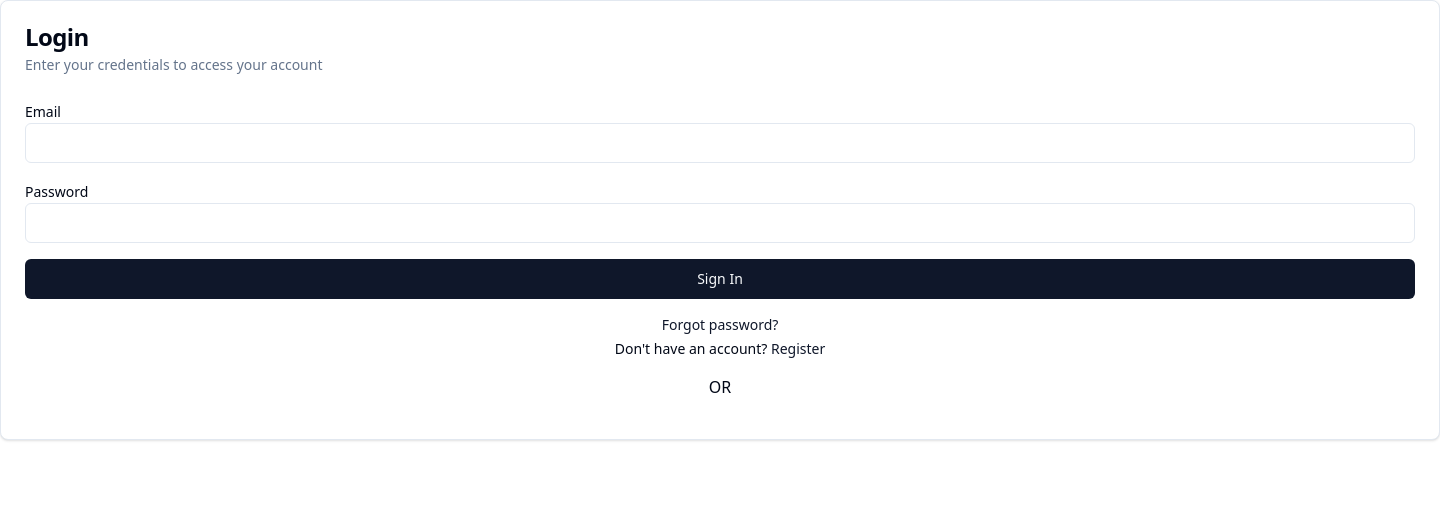
Test: Login Page › should show validation errors for empty submit
The width and height of the screenshot is (1440, 506).
Click the button "Sign In": (720, 279) [25,259,1415,299]
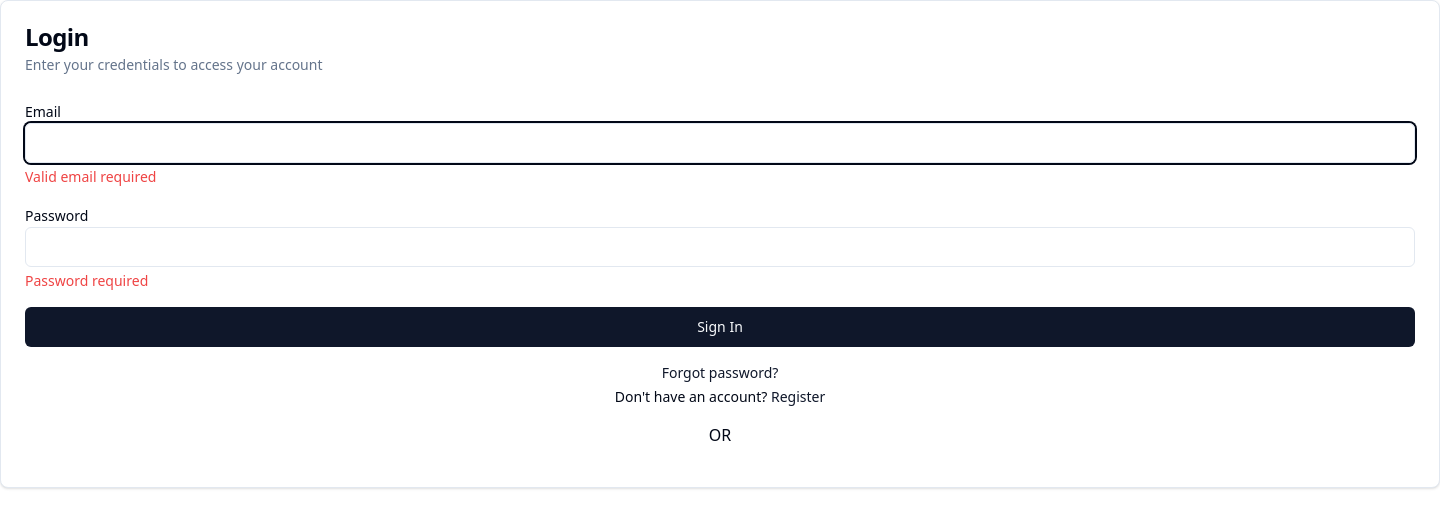
Now the text "Valid email required" is shown, box [25,167,156,186]
Now the text "Password required" is shown, box [25,271,148,290]
